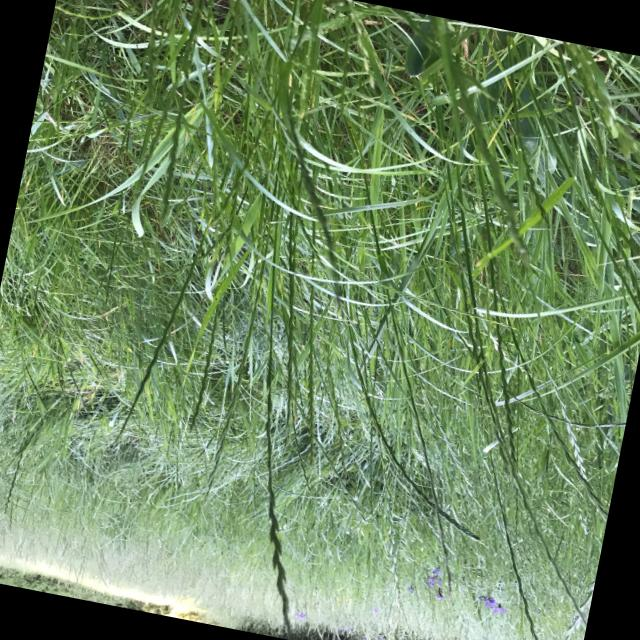Lolium: (0, 0, 640, 640), (166, 0, 425, 630), (377, 183, 636, 604), (288, 279, 520, 550), (431, 424, 597, 640), (117, 148, 237, 434)
